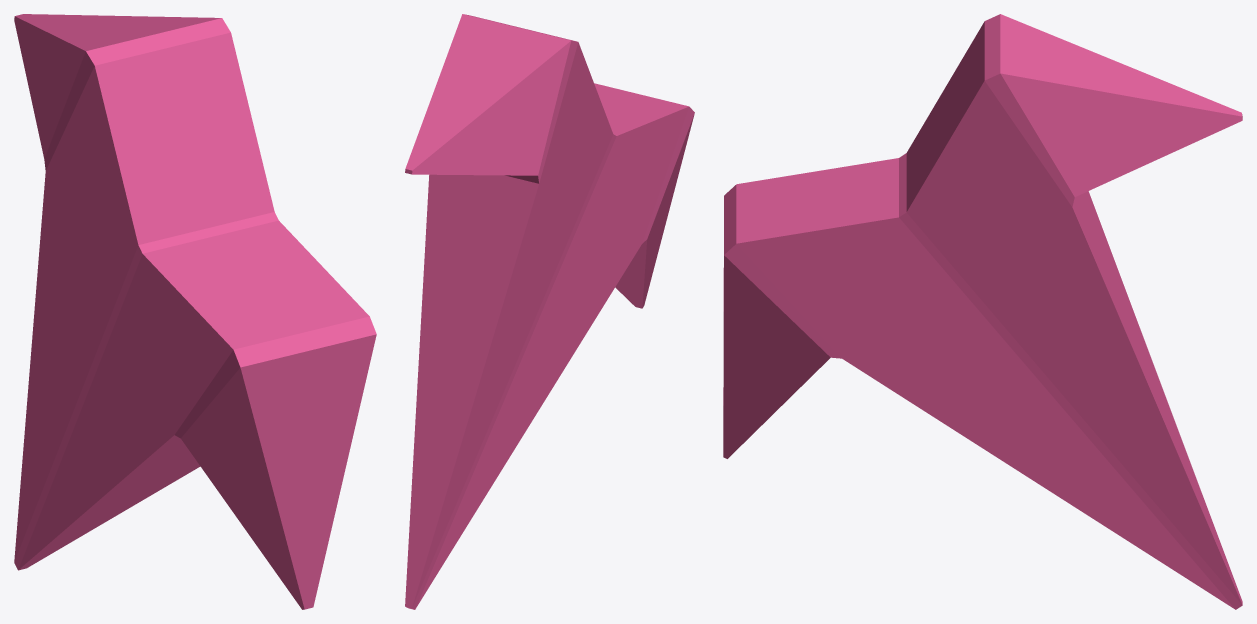
Rendered from Starfragment3.fbx.
3 renders of one model, left to right at view 1: azimuth 30°, elevation 25°; view 2: azimuth 150°, elevation 25°; view 3: azimuth 270°, elevation 25°, orthographic. The views are drawn at different scales.
Parts seen in each view (by area): view 1: Cube.001; view 2: Cube.001; view 3: Cube.001.
Part boxes in pixels (<box>): Cube.001: <box>14,14,376,609</box>; Cube.001: <box>405,14,694,609</box>; Cube.001: <box>723,14,1242,609</box>.
Size of the model in its own units: 42.51 by 188 by 157.
